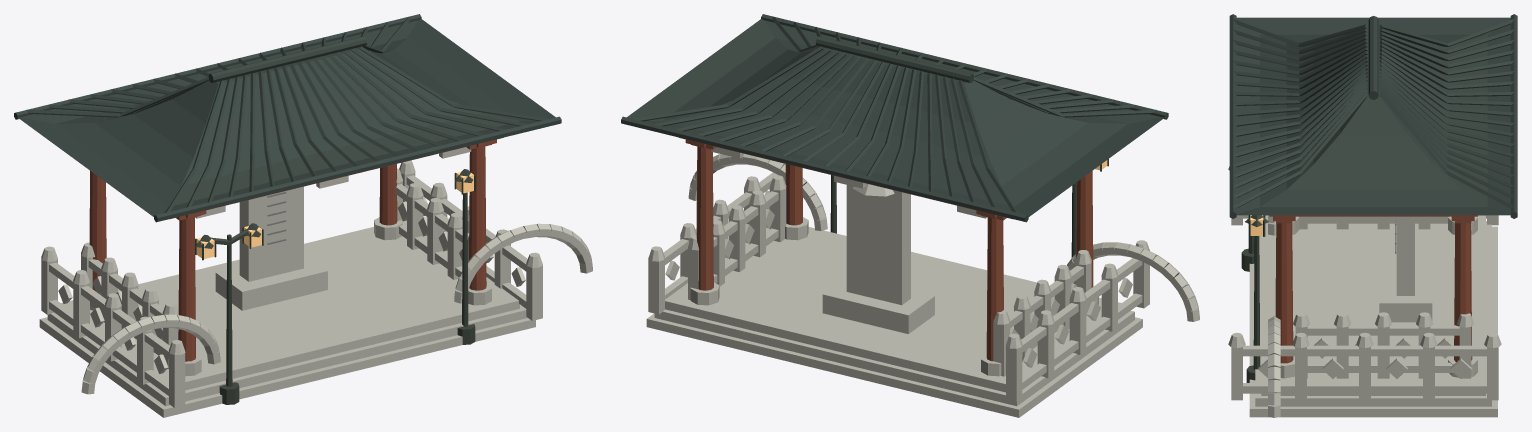
Rendered from duanqiao.glb.
The picture shows the model from 3 angles, left to right: view 1: azimuth 30°, elevation 25°; view 2: azimuth 150°, elevation 25°; view 3: azimuth 270°, elevation 25°; orthographic projection.
Parts seen in each view (by area): view 1: Limestone, Dark_Tile, Lacquered_Wood, Patinated_Iron, Emissive_WarmLamp; view 2: Limestone, Dark_Tile, Lacquered_Wood, Patinated_Iron; view 3: Dark_Tile, Limestone, Lacquered_Wood, Patinated_Iron.
Boxes of the visible parts, left/top/right/bottom form: Limestone: left=39, top=147, right=592, bottom=417; Dark_Tile: left=14, top=14, right=561, bottom=222; Lacquered_Wood: left=89, top=137, right=503, bottom=361; Patinated_Iron: left=195, top=169, right=475, bottom=404; Emissive_WarmLamp: left=196, top=172, right=473, bottom=258; Limestone: left=646, top=147, right=1199, bottom=417; Dark_Tile: left=621, top=14, right=1168, bottom=222; Lacquered_Wood: left=679, top=137, right=1093, bottom=361; Patinated_Iron: left=830, top=159, right=1108, bottom=283; Dark_Tile: left=1229, top=14, right=1517, bottom=218; Limestone: left=1228, top=166, right=1501, bottom=417; Lacquered_Wood: left=1269, top=215, right=1477, bottom=363; Patinated_Iron: left=1241, top=215, right=1268, bottom=382.
Size of the model in its own units: 9.06 by 4.61 by 4.43.
